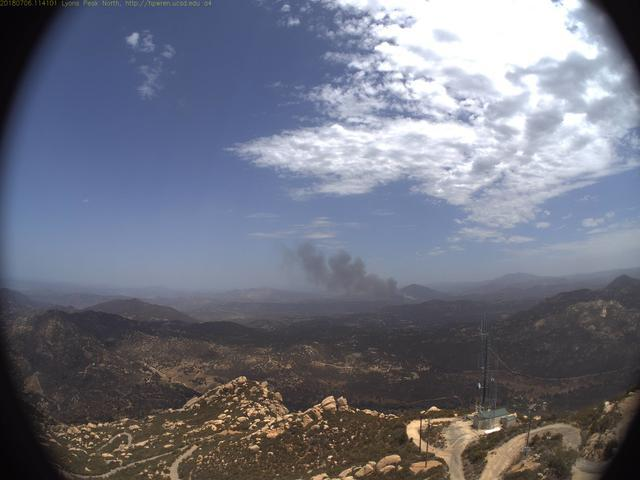smoke: (275, 230, 455, 312)
